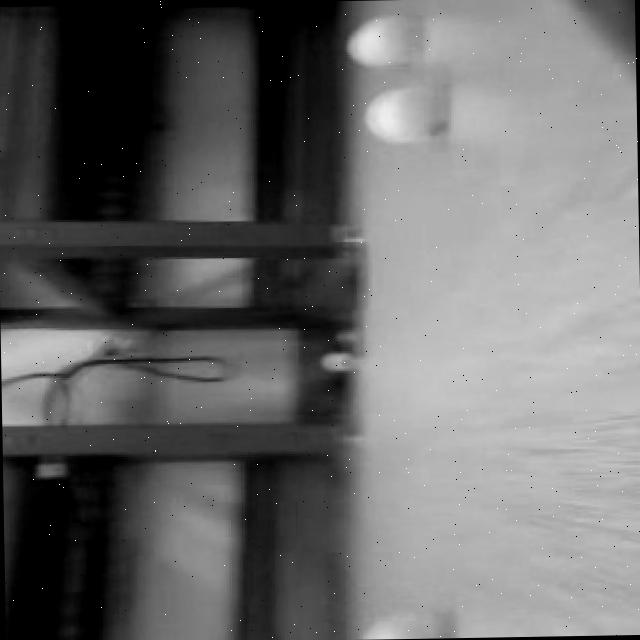ping-pong-ball: (366, 82, 462, 146), (344, 17, 418, 69), (354, 606, 449, 640), (317, 344, 361, 374)
